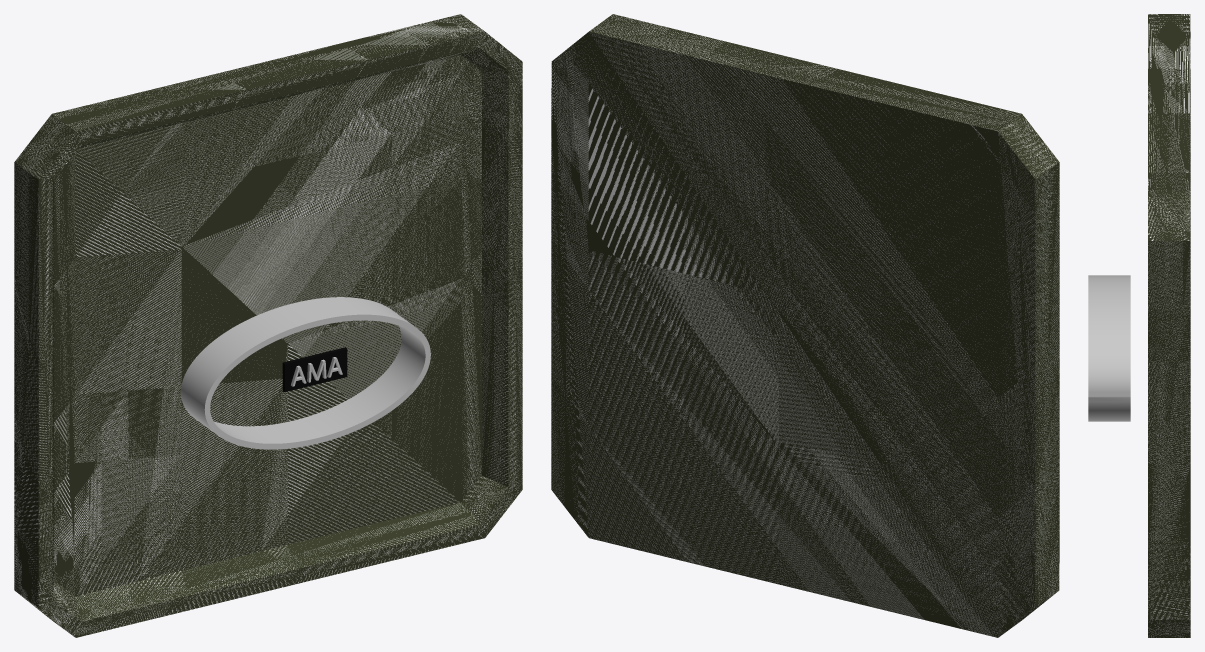
File: CM_-_AMA.obj
3 renders of one model, left to right at view 1: azimuth 30°, elevation 25°; view 2: azimuth 150°, elevation 25°; view 3: azimuth 270°, elevation 25°, orthographic. The views are drawn at different scales.
Visible parts, largest first — view 1: Button.001_ID13, Button_ID3, SM_CM_-_AMA_path1763-2.065; view 2: Button_ID3; view 3: Button_ID3, SM_CM_-_AMA_path1763-2.065.
Part boxes in pixels (box(x1,y1,x2,y2)): Button.001_ID13: box(52, 48, 508, 621); Button_ID3: box(14, 14, 522, 637); SM_CM_-_AMA_path1763-2.065: box(181, 297, 430, 449); Button_ID3: box(551, 14, 1059, 637); Button_ID3: box(1148, 14, 1190, 637); SM_CM_-_AMA_path1763-2.065: box(1088, 275, 1130, 421).
Size of the model in its own units: 1 by 1 by 0.207.
